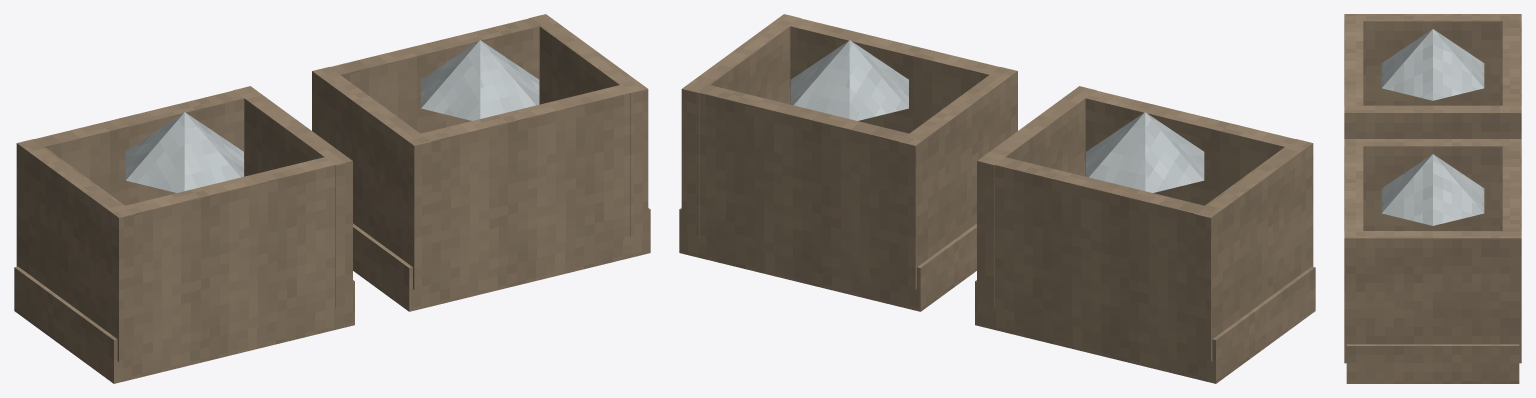
Rendered from level_blockout_wharf_open_fish_crates.glb.
3 renders of one model, left to right at view 1: azimuth 30°, elevation 25°; view 2: azimuth 150°, elevation 25°; view 3: azimuth 270°, elevation 25°, orthographic. The views are drawn at different scales.
Parts seen in each view (by area): view 1: level_blockout_wharf_open_fish_crates; view 2: level_blockout_wharf_open_fish_crates; view 3: level_blockout_wharf_open_fish_crates.
Part boxes in pixels (left/top/right/bottom): level_blockout_wharf_open_fish_crates: left=14, top=14, right=650, bottom=383; level_blockout_wharf_open_fish_crates: left=679, top=14, right=1315, bottom=383; level_blockout_wharf_open_fish_crates: left=1344, top=14, right=1521, bottom=383.
Bounding box in the file's own units: 2.18 × 0.8 × 0.72.
Materials: 2 (2 with a texture image).
